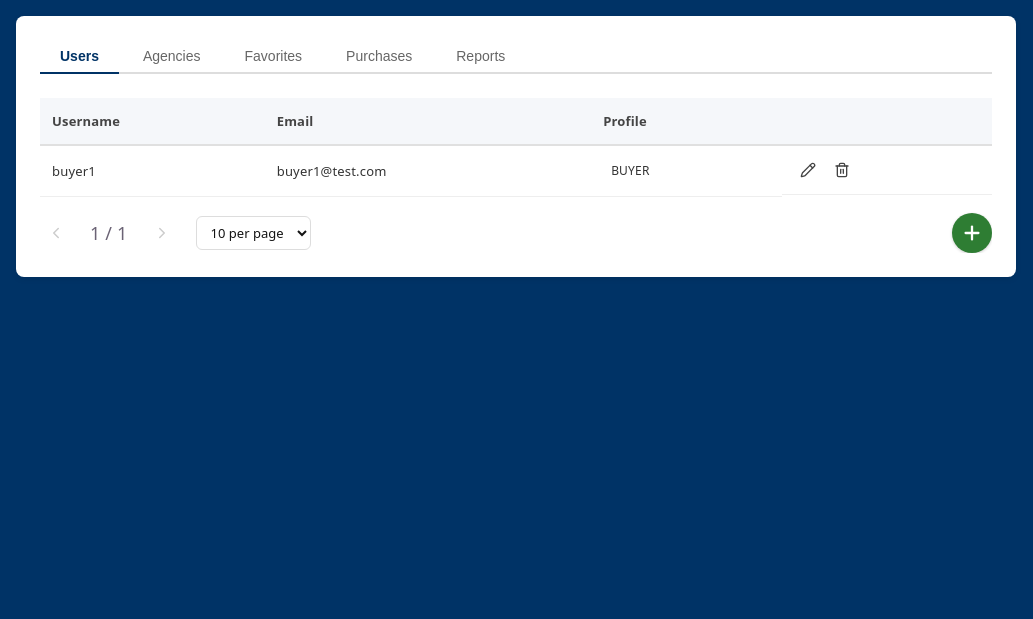
Test: AdminPage › cancels the new user form without creating a user
The width and height of the screenshot is (1033, 619).
Click the button with test id "btn-new-user" at coordinates (972, 233), box [952,213,992,253]
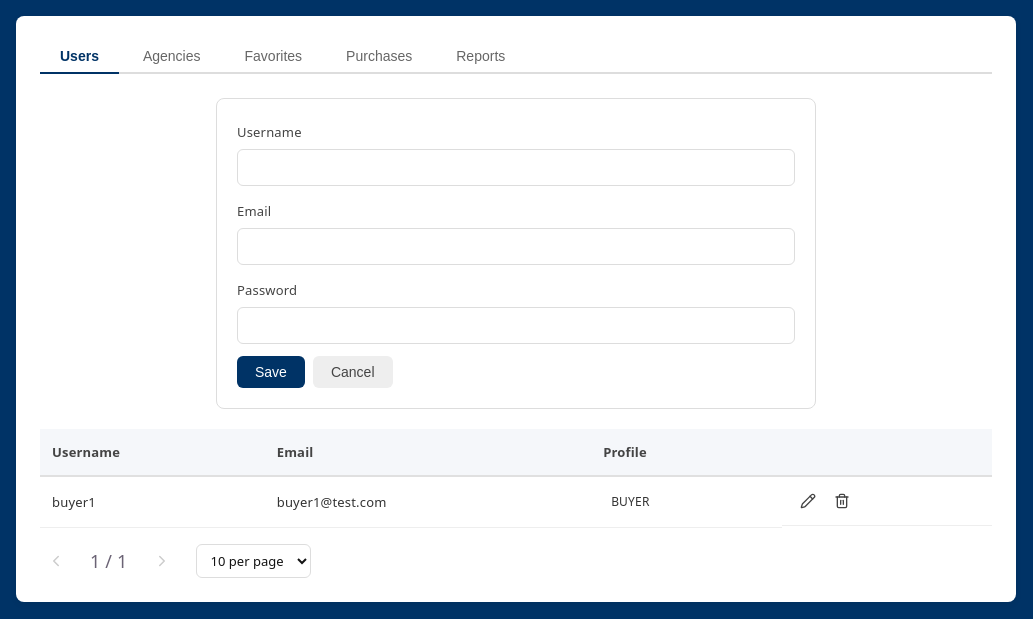
Click the button with test id "btn-cancel-user" at coordinates (353, 372), box [313,356,392,388]
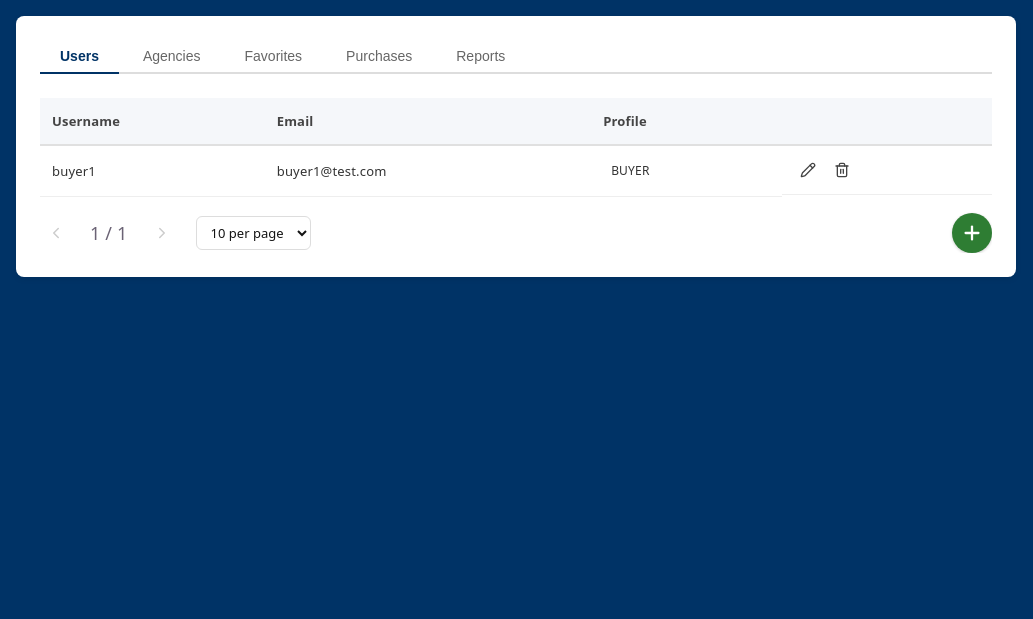
Result: the form with test id "user-form" is gone
